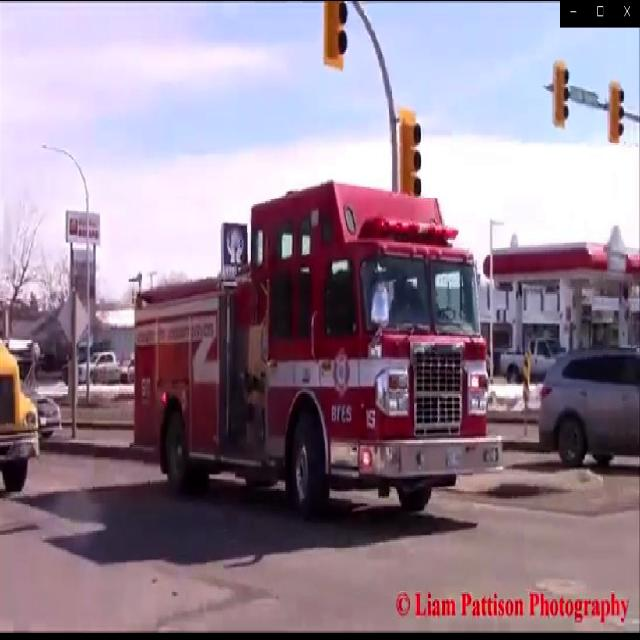emergency: (132, 172, 508, 534)
